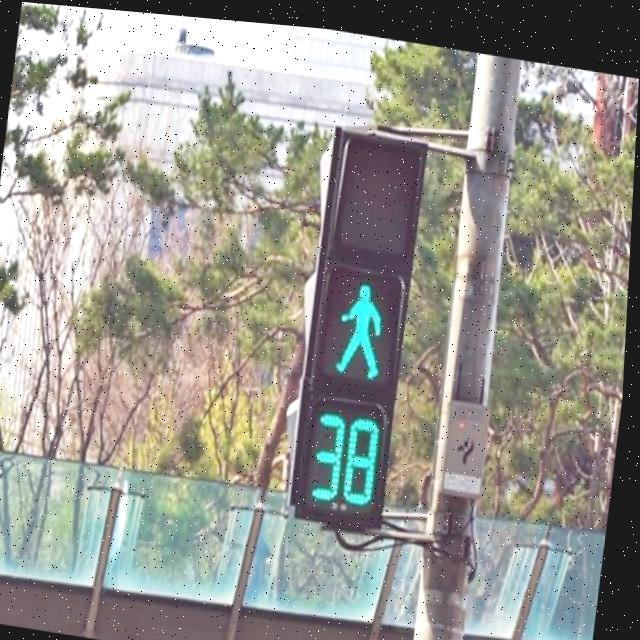green_light: (308, 264, 406, 514)
